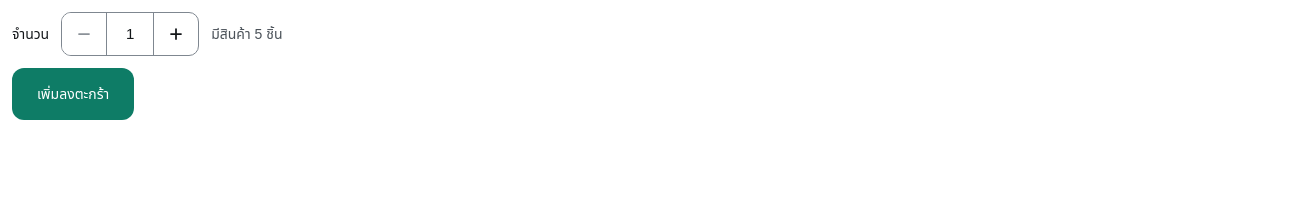
Test: AddToCart › maps VALIDATION_ERROR to Thai copy and keeps the form usable
Click the button "เพิ่มลงตะกร้า" at (73, 94), box top-left (12, 68), bottom-right (134, 120)
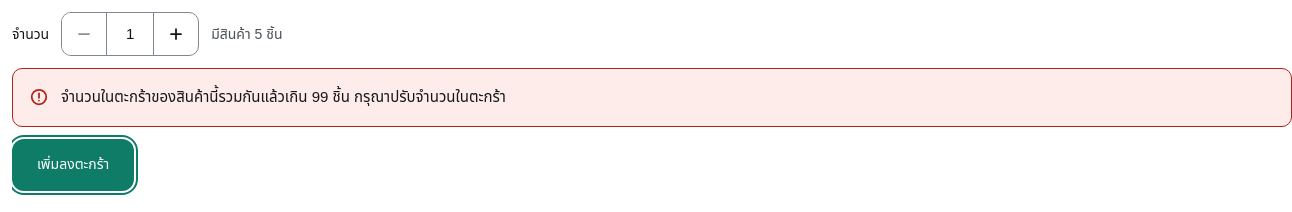
Check: the button "เพิ่มลงตะกร้า" is enabled, box top-left (12, 139), bottom-right (134, 191)
Check: the text "จำนวนในตะกร้าของสินค้านี้รวมกันแล้วเกิน 99 ชิ้น กรุณาปรับจำนวนในตะกร้า" is shown, box top-left (61, 88), bottom-right (506, 105)
